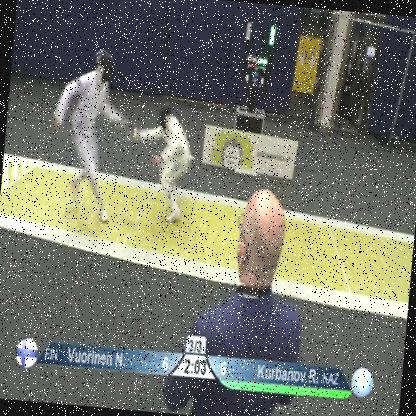fencer: (23, 34, 139, 244), (120, 84, 209, 239)
referee: (143, 170, 357, 415)
